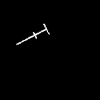double_crochet: (18, 24, 48, 43)
